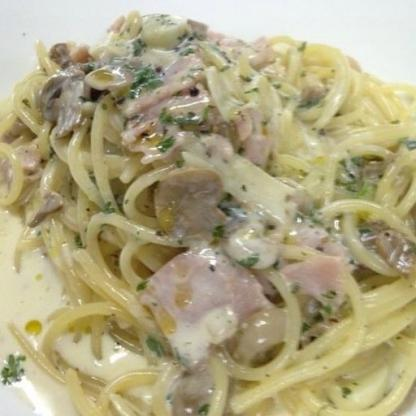pasta: (8, 19, 415, 415)
